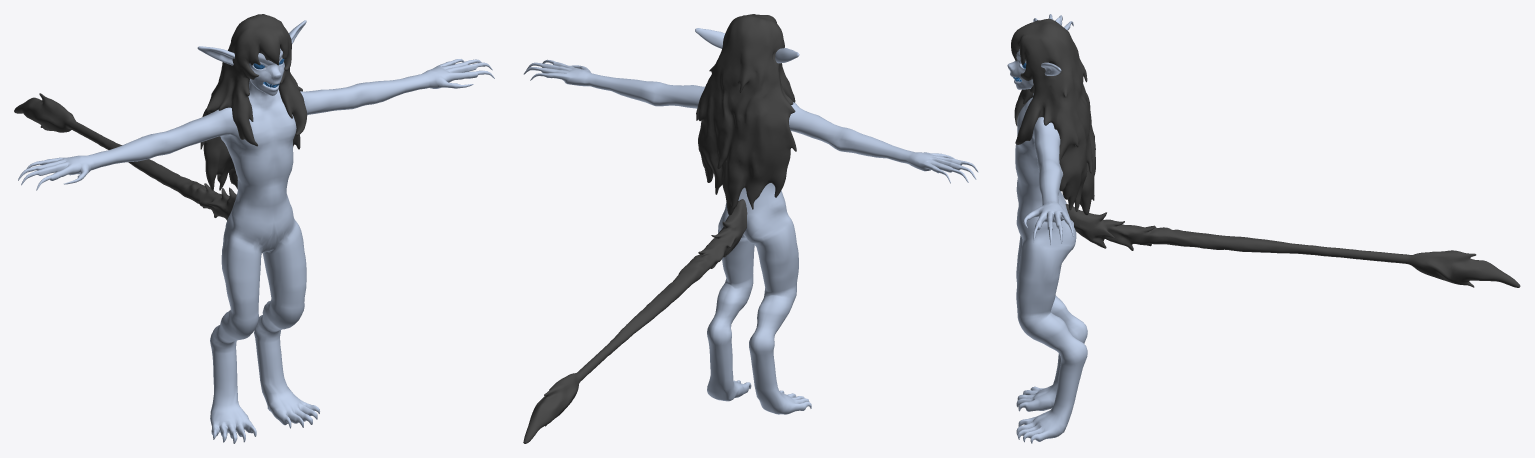
Rendered from Creature.fbx.
The picture shows the model from 3 angles, left to right: view 1: azimuth 30°, elevation 25°; view 2: azimuth 150°, elevation 25°; view 3: azimuth 270°, elevation 25°; orthographic projection. The views are drawn at different scales.
Parts seen in each view (by area): view 1: pBody1, pHair1, pTail1, pEars1; view 2: pBody1, pHair1, pTail1, pEars1; view 3: pBody1, pHair1, pTail1.
Boxes of the visible parts, x1,y1,x2,y2 form: pBody1: (18, 48, 494, 443); pHair1: (200, 14, 307, 190); pTail1: (14, 93, 236, 220); pEars1: (197, 20, 306, 65); pBody1: (523, 59, 978, 414); pHair1: (696, 14, 796, 215); pTail1: (523, 199, 747, 443); pEars1: (695, 28, 799, 63); pBody1: (1007, 14, 1087, 443); pHair1: (1011, 18, 1095, 215); pTail1: (1065, 204, 1520, 287).
Size of the model in its own units: 23.75 by 19.57 by 22.82.
